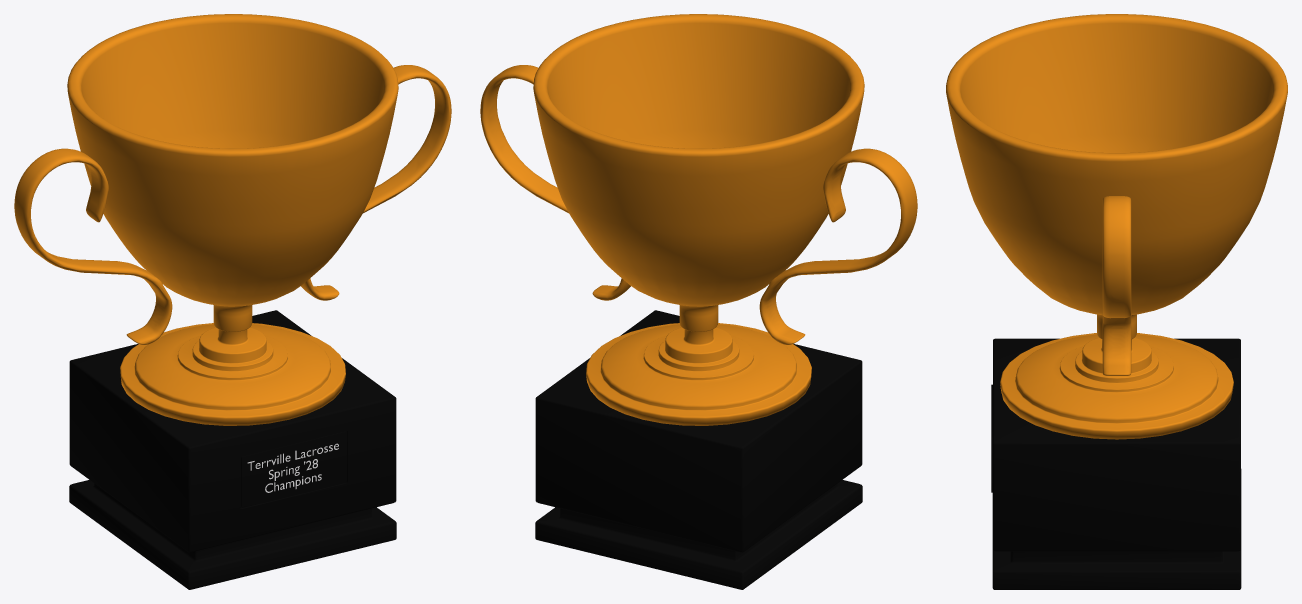
File: terryville_lacrosse_2028_first (1).fbx
The picture shows the model from 3 angles, left to right: view 1: azimuth 30°, elevation 25°; view 2: azimuth 150°, elevation 25°; view 3: azimuth 270°, elevation 25°; orthographic projection. The views are drawn at different scales.
Parts seen in each view (by area): view 1: Cup, Stand, Text.001; view 2: Cup, Stand; view 3: Cup, Stand.
Part boxes in pixels (x1,y1,x2,y2): Cup: (14,14,451,425); Stand: (69,310,396,589); Text.001: (247,443,338,492); Cup: (480,14,917,425); Stand: (535,310,862,589); Cup: (946,14,1287,439); Stand: (991,338,1241,589).
Bounding box in the file's own units: 513 × 504 × 345.
